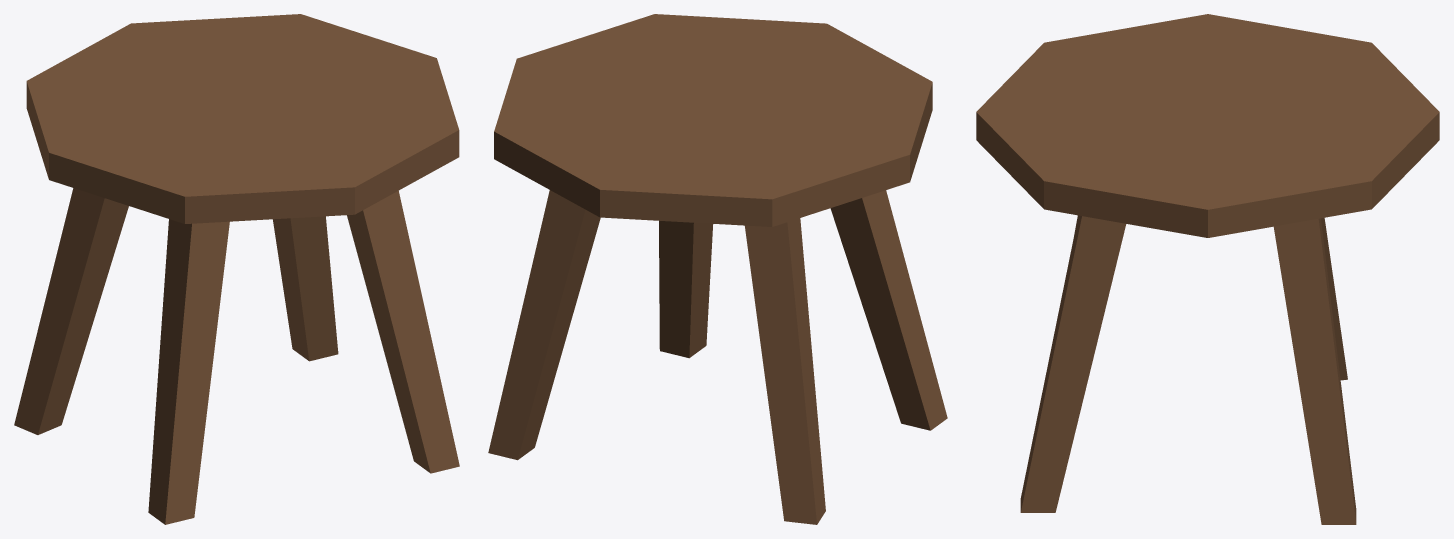
Rendered from Bathroom2_stool.fbx.
The picture shows the model from 3 angles, left to right: view 1: azimuth 30°, elevation 25°; view 2: azimuth 150°, elevation 25°; view 3: azimuth 270°, elevation 25°; orthographic projection. The views are drawn at different scales.
Parts seen in each view (by area): view 1: Bathroom2_stool; view 2: Bathroom2_stool; view 3: Bathroom2_stool.
Boxes of the visible parts, x1=… form: Bathroom2_stool: x1=14, y1=14, x2=459, y2=524; Bathroom2_stool: x1=488, y1=14, x2=947, y2=524; Bathroom2_stool: x1=976, y1=14, x2=1439, y2=524.
Size of the model in its own units: 69.74 by 55.97 by 69.74.
